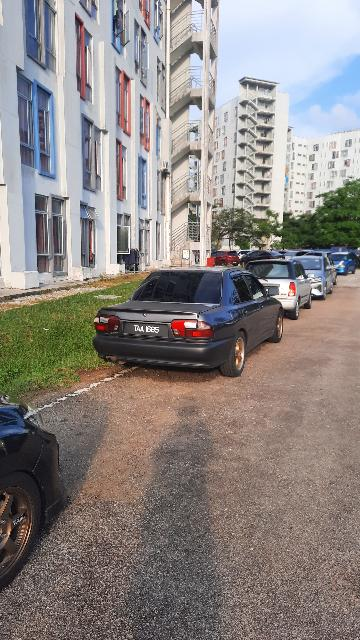License_Plate: (123, 321, 170, 341)
car: (96, 265, 285, 375), (239, 259, 314, 320), (292, 254, 338, 303)
